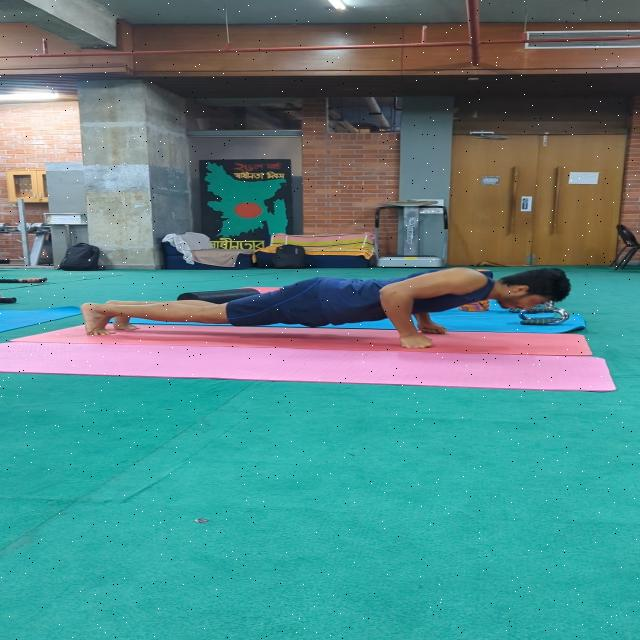Normal_PushUps: (65, 257, 587, 380)
